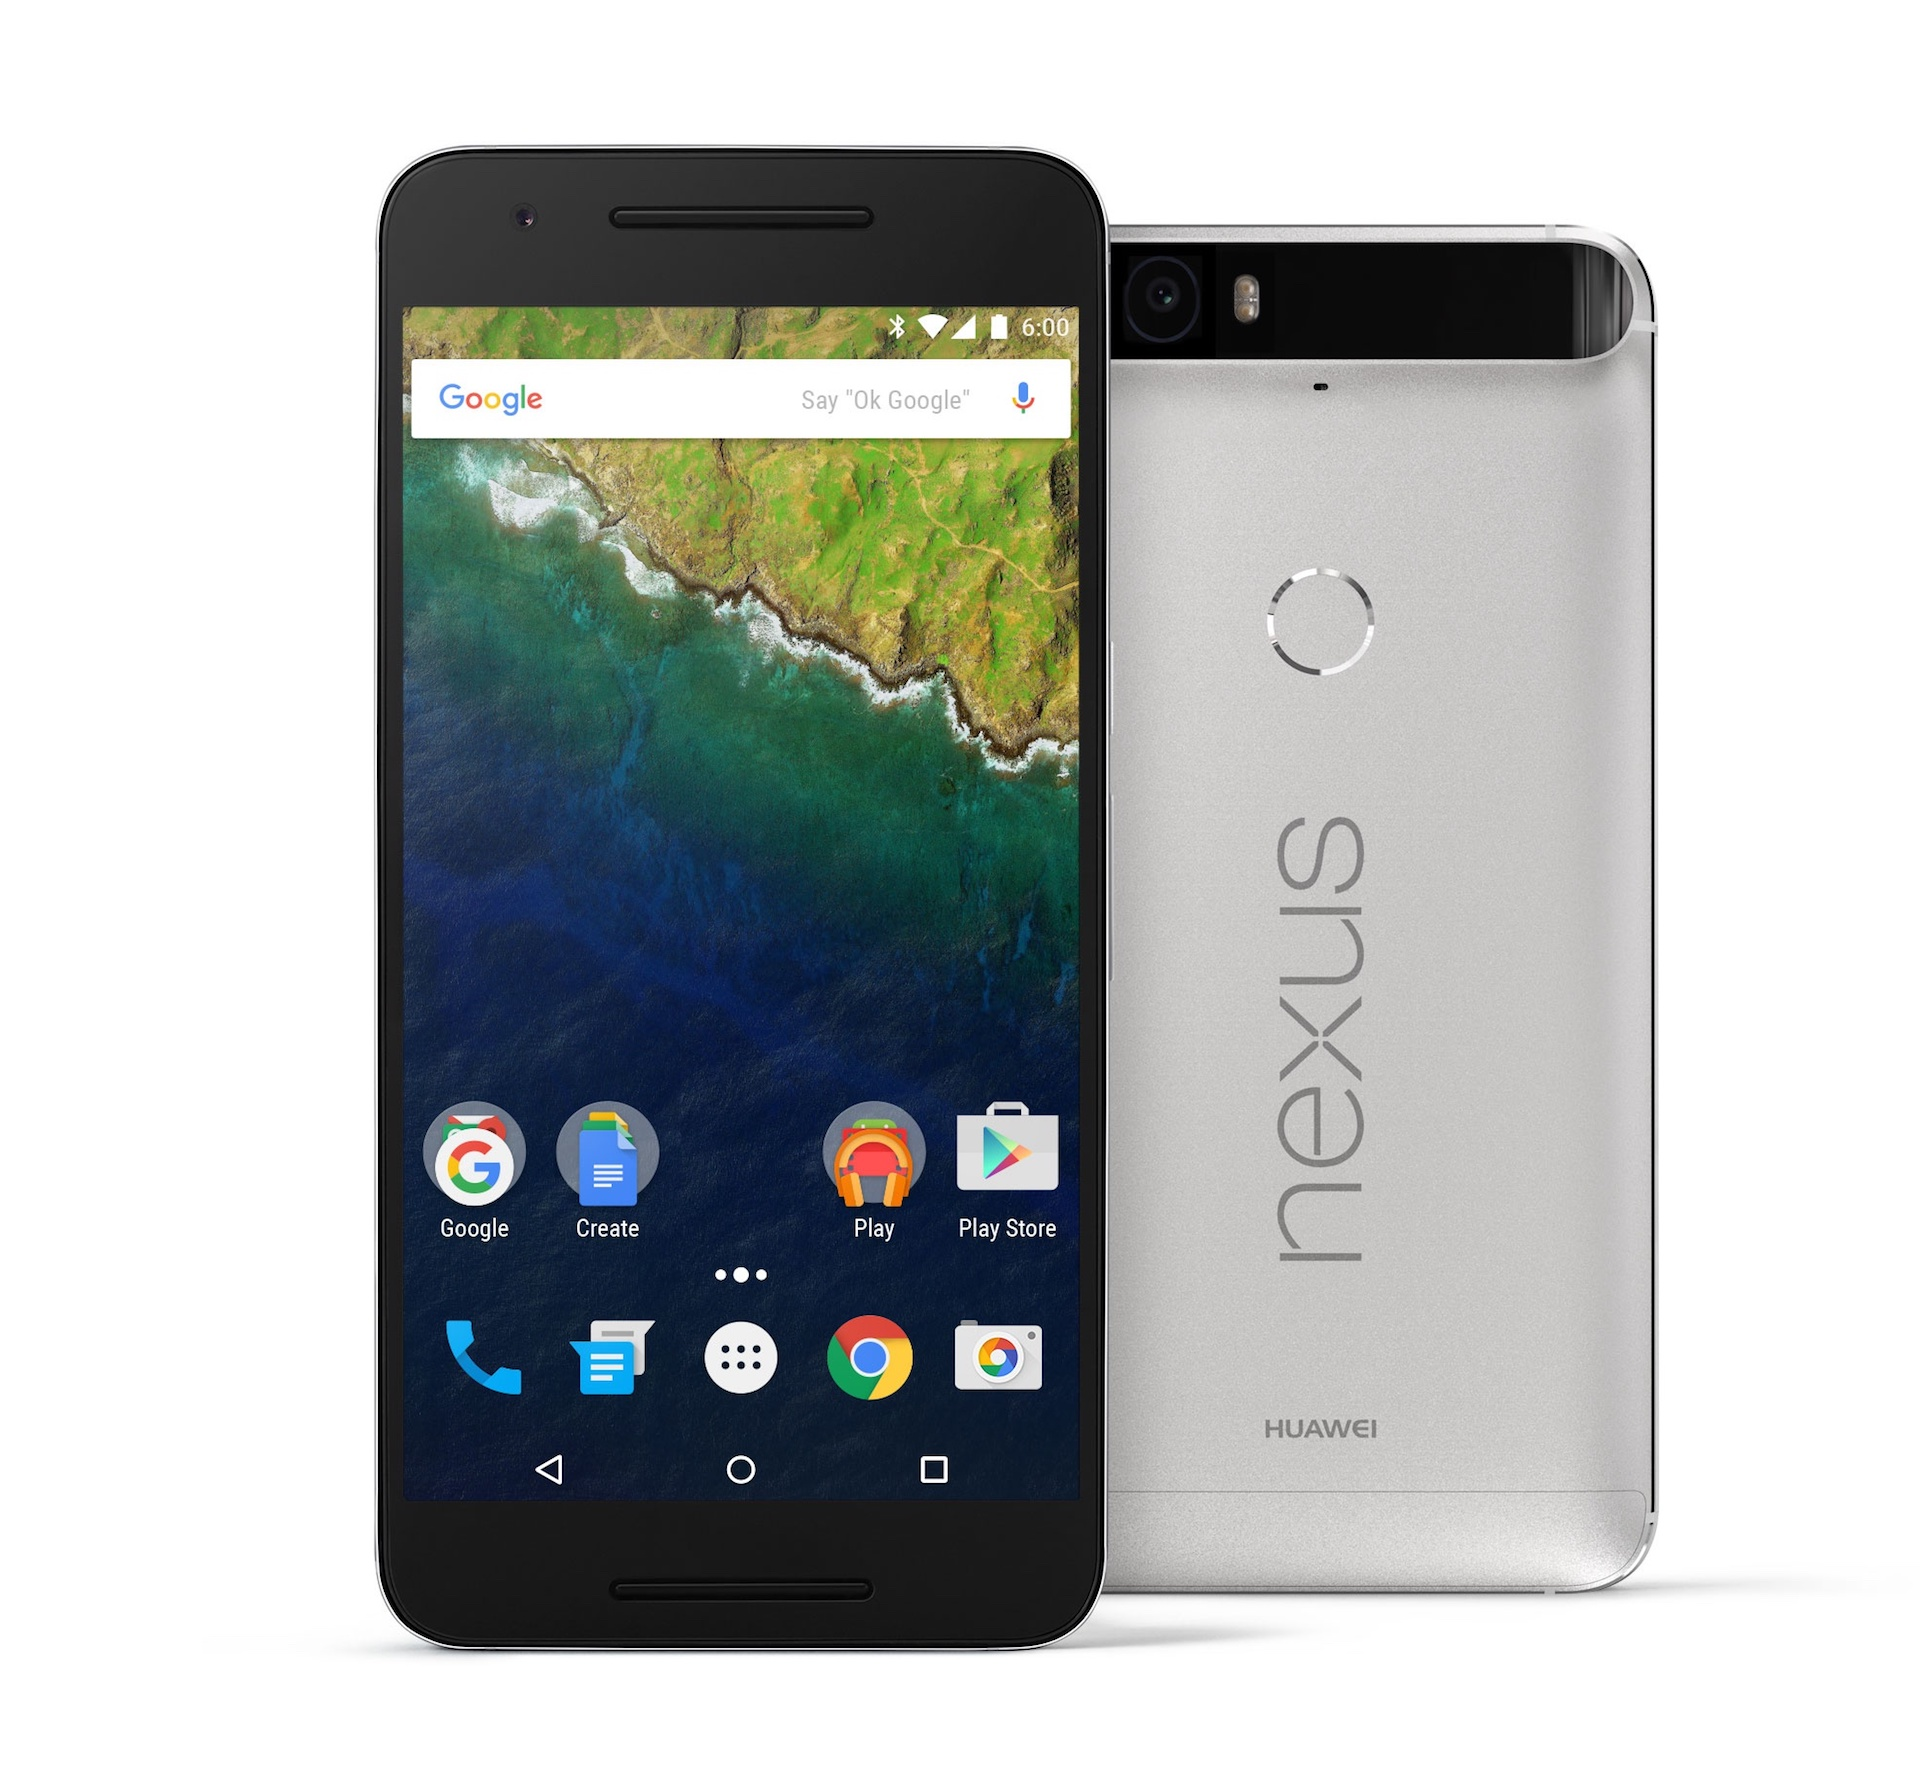smartphone: (373, 141, 1116, 1644), (1095, 221, 1661, 1601)
